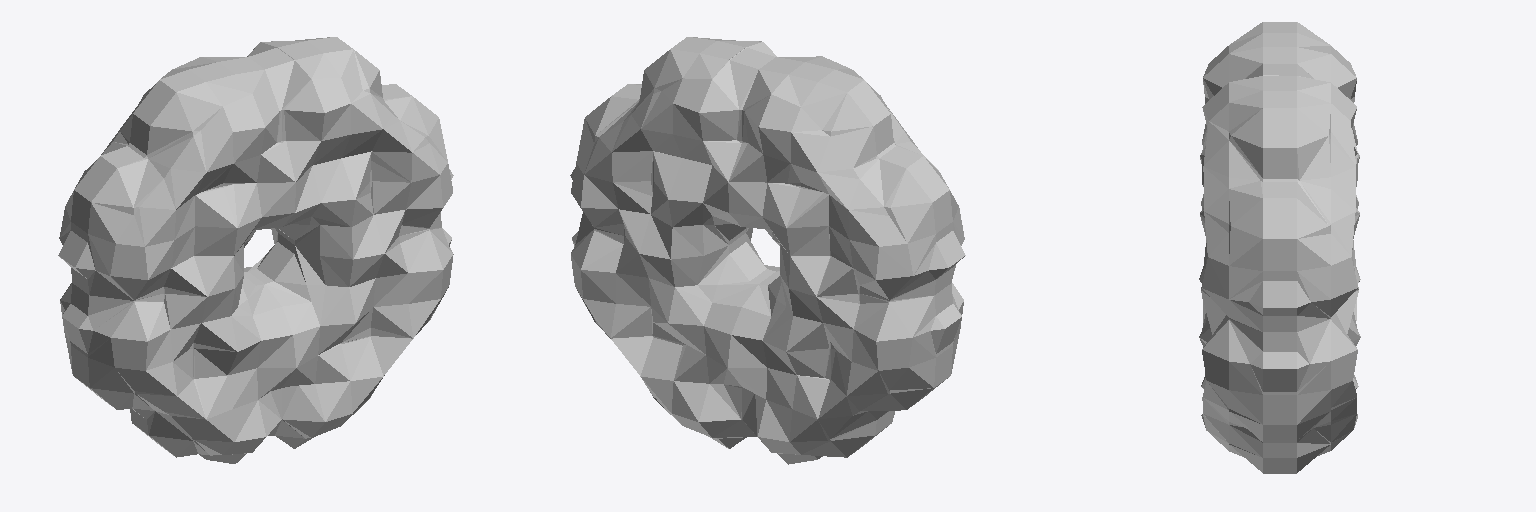
File: blob1.obj
3 renders of one model, left to right at view 1: azimuth 30°, elevation 25°; view 2: azimuth 150°, elevation 25°; view 3: azimuth 270°, elevation 25°, orthographic.
Parts seen in each view (by area): view 1: Metaball; view 2: Metaball; view 3: Metaball.
Boxes of the visible parts, x1=… form: Metaball: x1=58, y1=37, x2=453, y2=463; Metaball: x1=570, y1=37, x2=965, y2=464; Metaball: x1=1199, y1=22, x2=1360, y2=473.
Bounding box in the file's own units: 517 × 509 × 191.